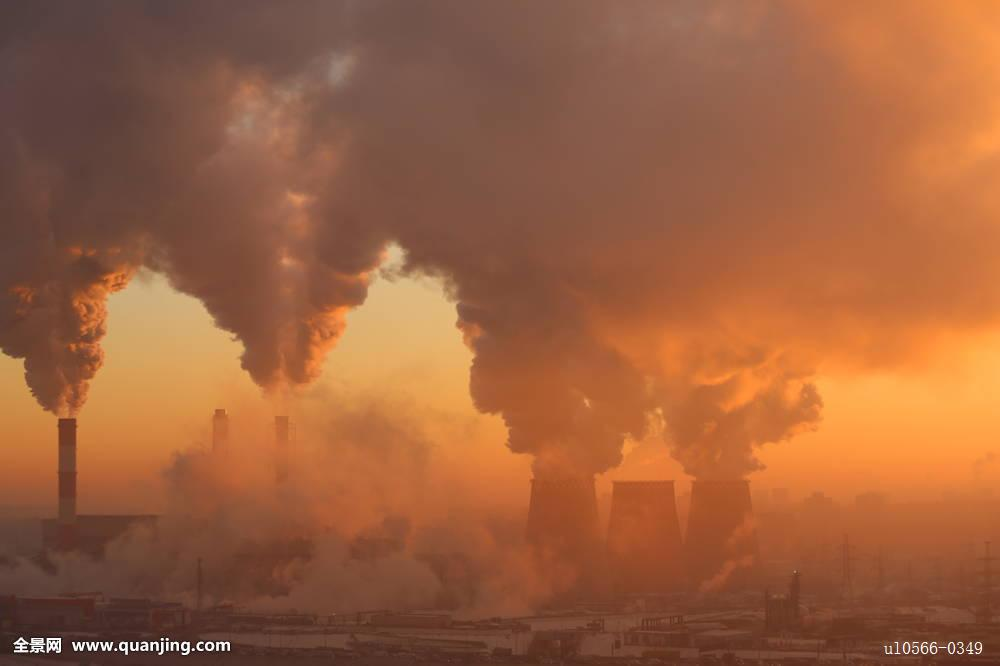dust: (189, 144, 393, 445), (450, 211, 637, 507), (8, 173, 134, 444), (658, 345, 812, 502)
